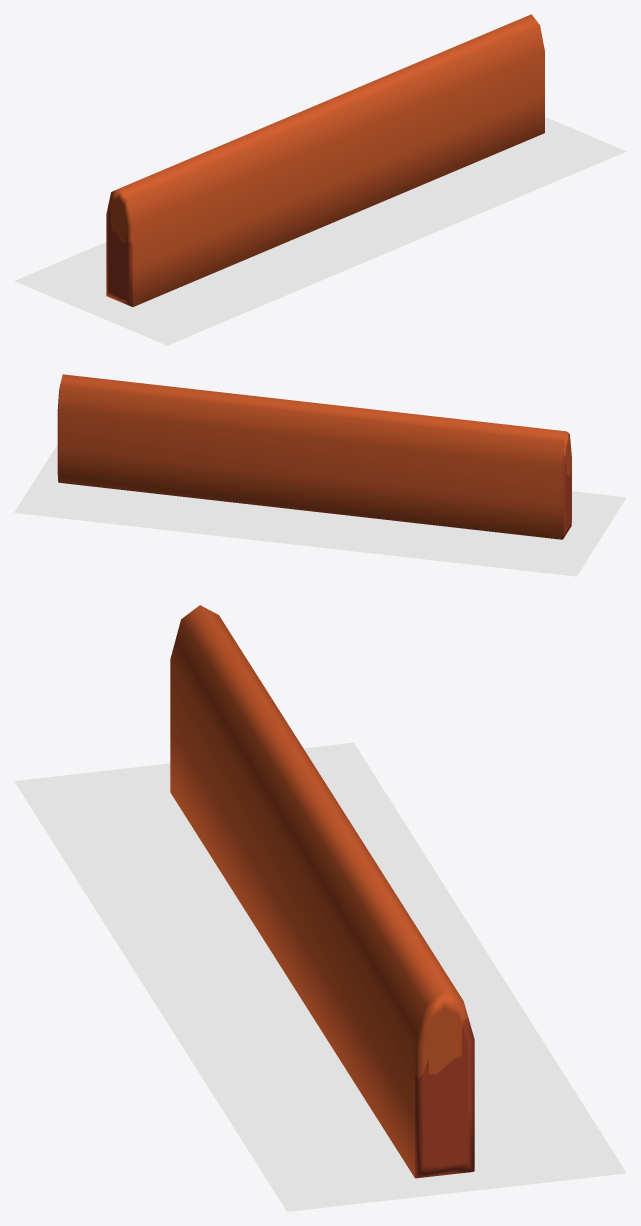
Rendered from NormalContent.fbx.
The picture shows the model from 3 angles, top to bottom: view 1: azimuth 30°, elevation 25°; view 2: azimuth 150°, elevation 25°; view 3: azimuth 270°, elevation 25°; orthographic projection. The views are drawn at different scales.
Parts seen in each view (by area): view 1: BasicObstacle, Shadow; view 2: BasicObstacle, Shadow; view 3: Shadow, BasicObstacle.
Boxes of the visible parts, x1=… form: BasicObstacle: x1=106, y1=14, x2=544, y2=306; Shadow: x1=14, y1=117, x2=626, y2=345; BasicObstacle: x1=57, y1=374, x2=571, y2=539; Shadow: x1=14, y1=444, x2=626, y2=576; Shadow: x1=14, y1=742, x2=626, y2=1211; BasicObstacle: x1=170, y1=605, x2=474, y2=1178.
Size of the model in its own units: 2.15 by 0.3992 by 1.19.
